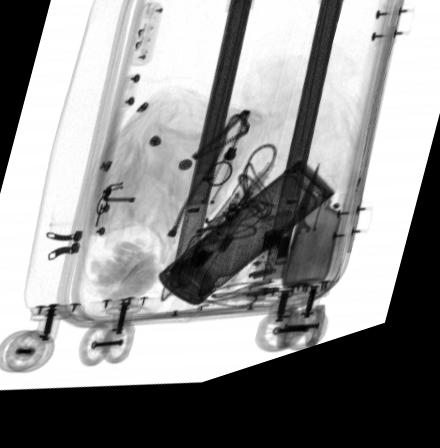Scissors: (253, 180, 319, 284)
